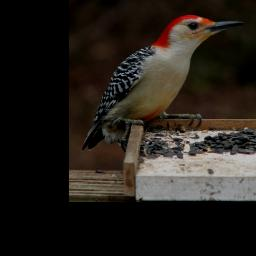Woodpecker: (79, 14, 245, 153)
